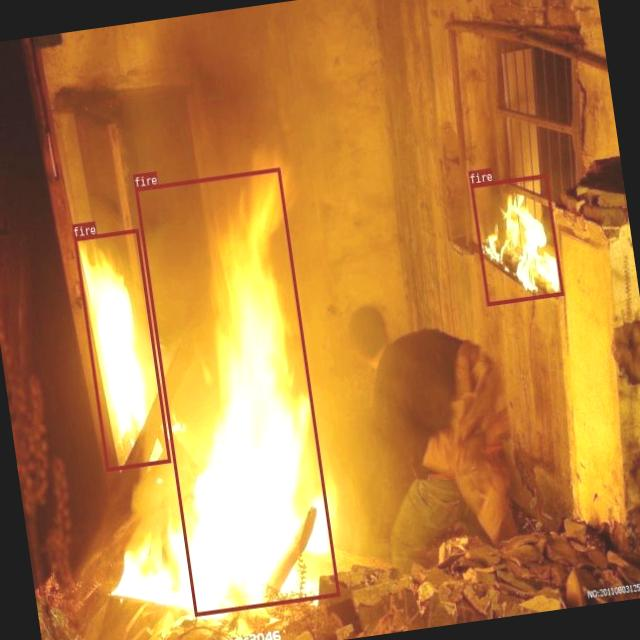fire: (134, 167, 340, 616), (74, 228, 170, 471), (470, 174, 563, 306)
